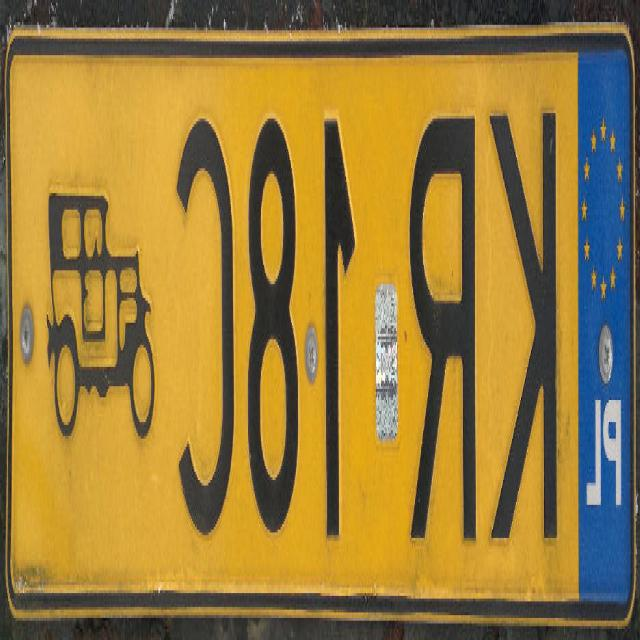pl_license_plate: (10, 36, 634, 607)
